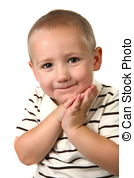face: (22, 7, 108, 108)
